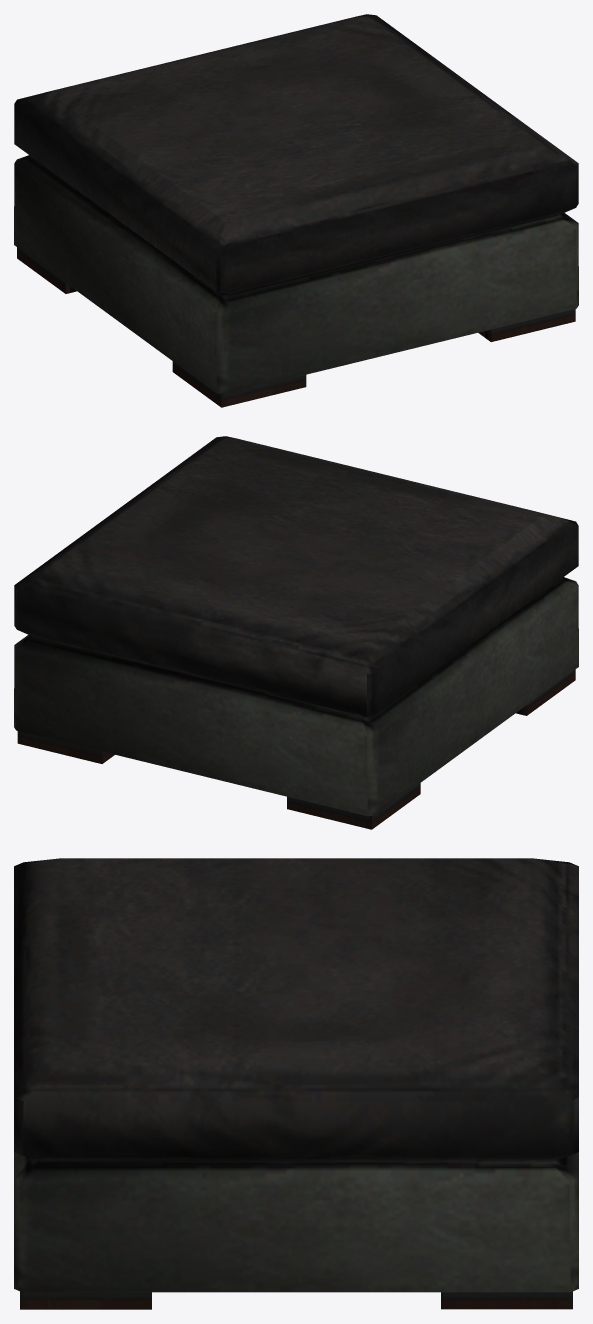
File: Couch03.FBX
3 renders of one model, top to bottom at view 1: azimuth 30°, elevation 25°; view 2: azimuth 150°, elevation 25°; view 3: azimuth 270°, elevation 25°, orthographic. The views are drawn at different scales.
Parts seen in each view (by area): view 1: Couch03; view 2: Couch03; view 3: Couch03.
Part boxes in pixels (x1=…): Couch03: x1=14, y1=14, x2=578, y2=407; Couch03: x1=14, y1=436, x2=578, y2=829; Couch03: x1=14, y1=858, x2=578, y2=1309.
Size of the model in its own units: 1 by 0.4497 by 1.
